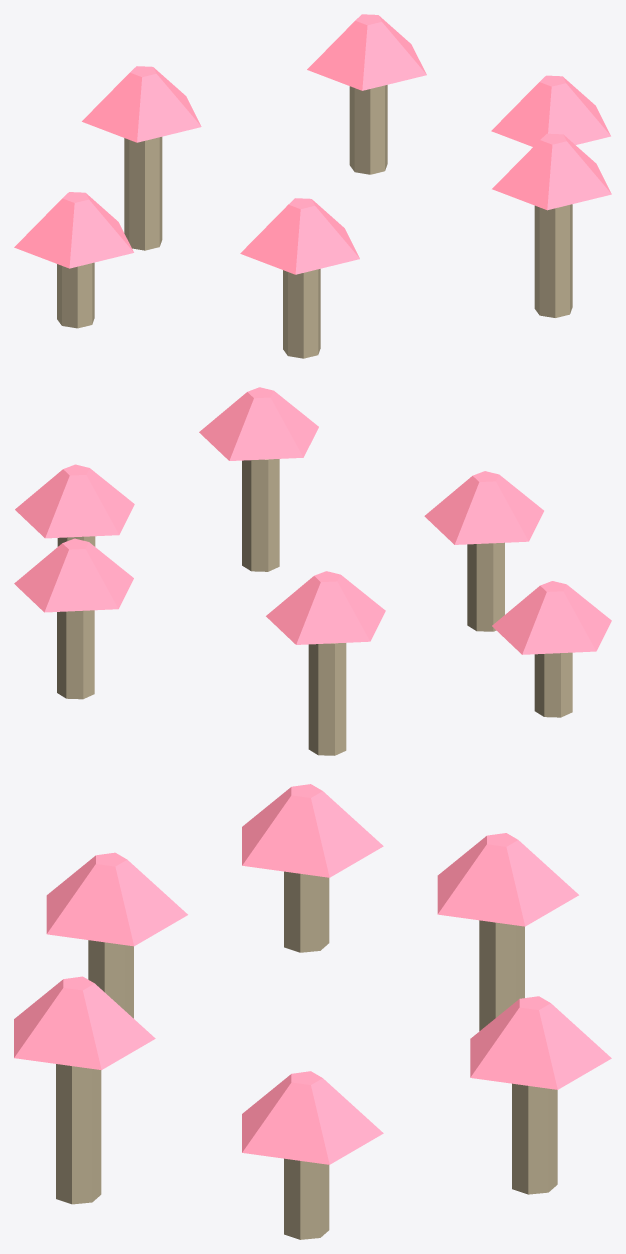
The model's file is old_wood_mushroom_ring.lod1.glb.
The picture shows the model from 3 angles, top to bottom: view 1: azimuth 30°, elevation 25°; view 2: azimuth 150°, elevation 25°; view 3: azimuth 270°, elevation 25°; orthographic projection. The views are drawn at different scales.
Size of the model in its own units: 1.9 by 0.535 by 1.37.
